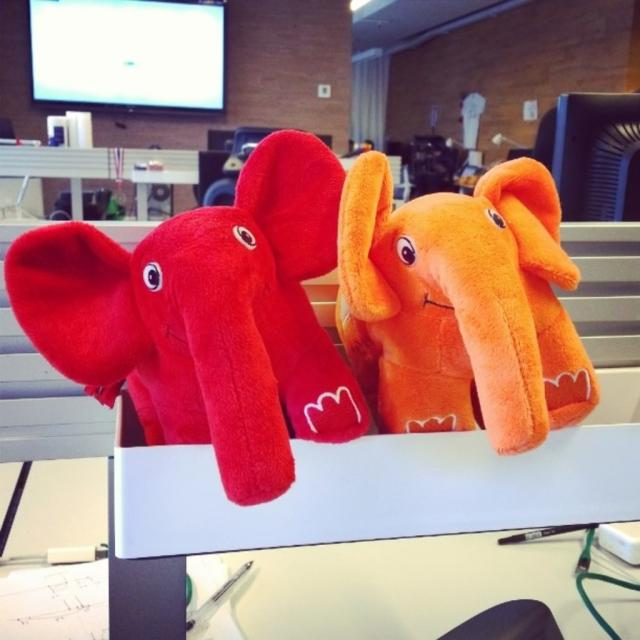elephant: (10, 158, 421, 520), (334, 158, 600, 458)
